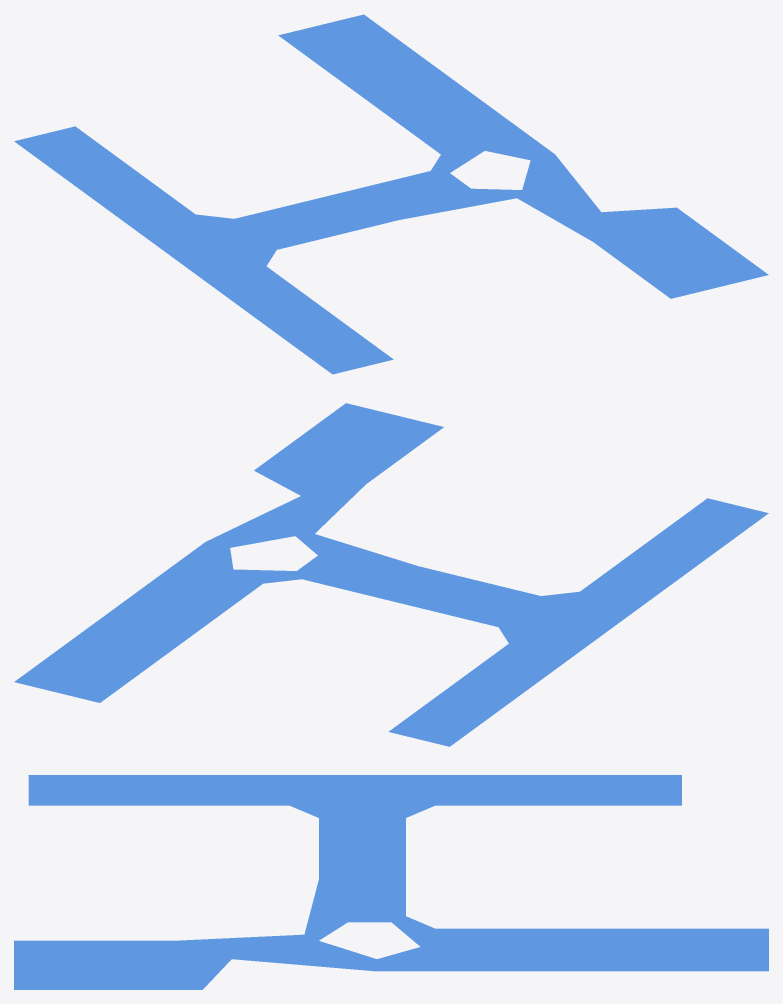
Rendered from navmesh.glb.
3 views of the same model, one above another, from view 1: azimuth 30°, elevation 25°; view 2: azimuth 150°, elevation 25°; view 3: azimuth 270°, elevation 25° (orthographic). The views are drawn at different scales.
Parts seen in each view (by area): view 1: Mesh_0; view 2: Mesh_0; view 3: Mesh_0.
Boxes of the visible parts, x1,y1,x2,y2 form: Mesh_0: [14, 14, 768, 374]; Mesh_0: [14, 403, 768, 746]; Mesh_0: [14, 775, 768, 989].
Size of the model in its own units: 7 by 0 by 10.4.
